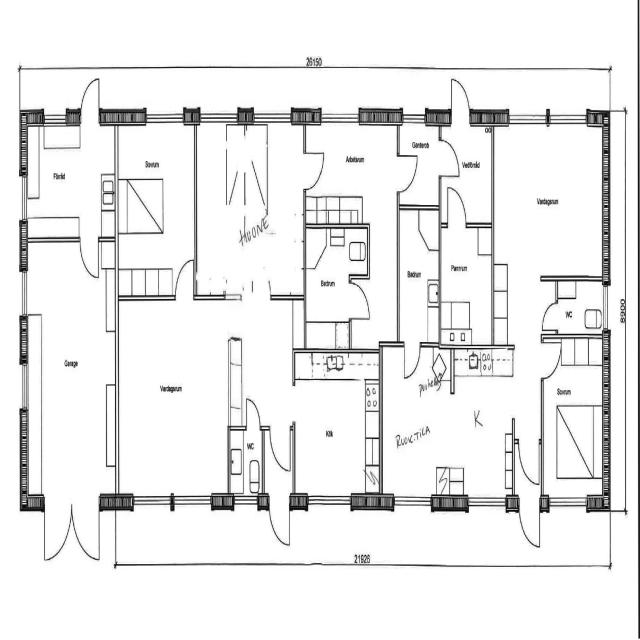door: (44, 497, 103, 564), (439, 133, 481, 227), (40, 500, 73, 563), (515, 433, 543, 487), (442, 178, 470, 229), (76, 74, 104, 124), (268, 421, 294, 474), (447, 74, 473, 126), (301, 144, 328, 194), (77, 231, 102, 284), (517, 501, 542, 552), (395, 146, 420, 196), (266, 501, 292, 547), (435, 134, 461, 180), (347, 278, 372, 325), (539, 336, 563, 383), (400, 337, 422, 385), (173, 254, 196, 299), (538, 298, 561, 337), (243, 394, 261, 430)
window: (507, 104, 587, 132), (387, 489, 435, 515), (305, 488, 353, 514), (168, 488, 214, 514), (129, 488, 174, 514), (141, 105, 185, 129), (250, 103, 294, 127), (464, 492, 509, 515), (545, 494, 591, 516), (198, 104, 240, 127), (319, 106, 359, 128), (40, 104, 72, 128), (399, 104, 429, 128), (17, 173, 29, 228), (18, 265, 28, 325), (600, 281, 611, 332), (18, 362, 28, 414), (233, 496, 258, 511)
zone: (114, 299, 236, 501), (22, 240, 116, 502), (193, 119, 304, 298), (491, 121, 607, 280), (116, 120, 196, 303), (292, 352, 381, 504), (22, 119, 117, 244), (543, 335, 609, 506), (303, 122, 402, 231), (444, 350, 514, 504), (380, 347, 448, 503), (304, 225, 366, 352), (437, 223, 494, 347), (396, 203, 441, 345), (436, 122, 492, 225), (394, 125, 436, 211), (554, 278, 606, 338), (227, 426, 262, 506)
